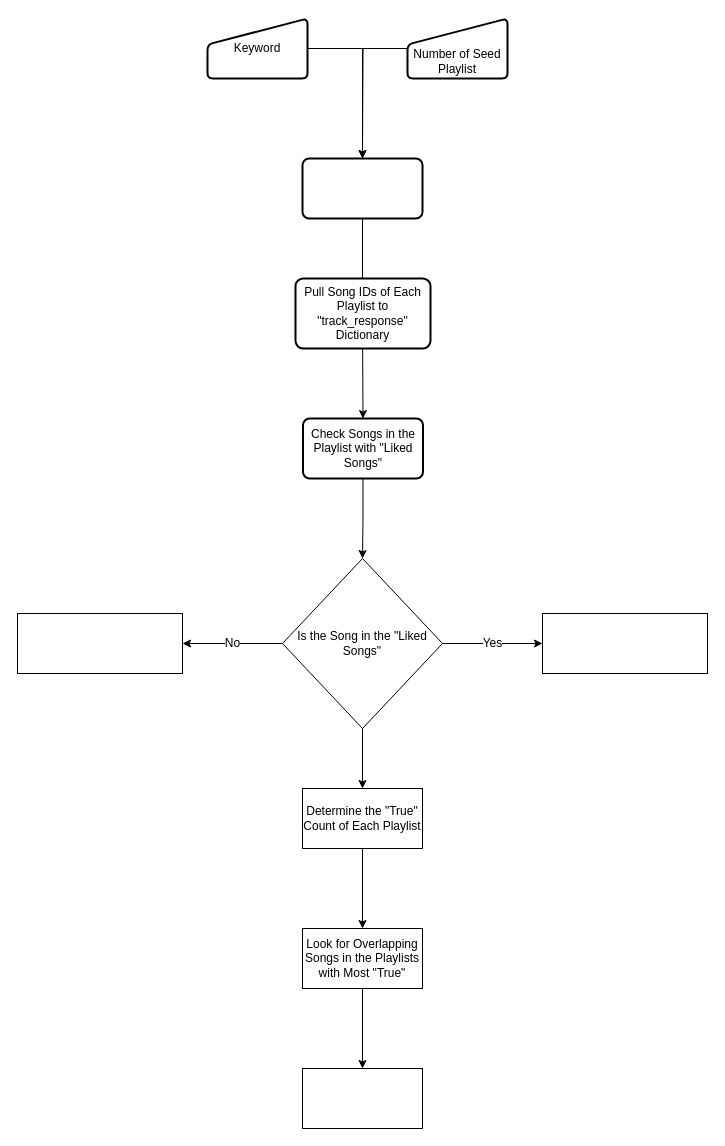
This 725x1146 diagram has some shape labels left out. The box of each missing label's shape, as (x1, y1, x2, y2) in pixels:
Add a "False" to "tracklist_contains_songs": (16, 612, 182, 674)
Add a "True" to "tracklist_contains_songs": (542, 612, 708, 674)
Create a New Playlist With These Songs In It: (302, 1068, 422, 1128)
Search Spotify Database for Playlists: (301, 157, 423, 219)
